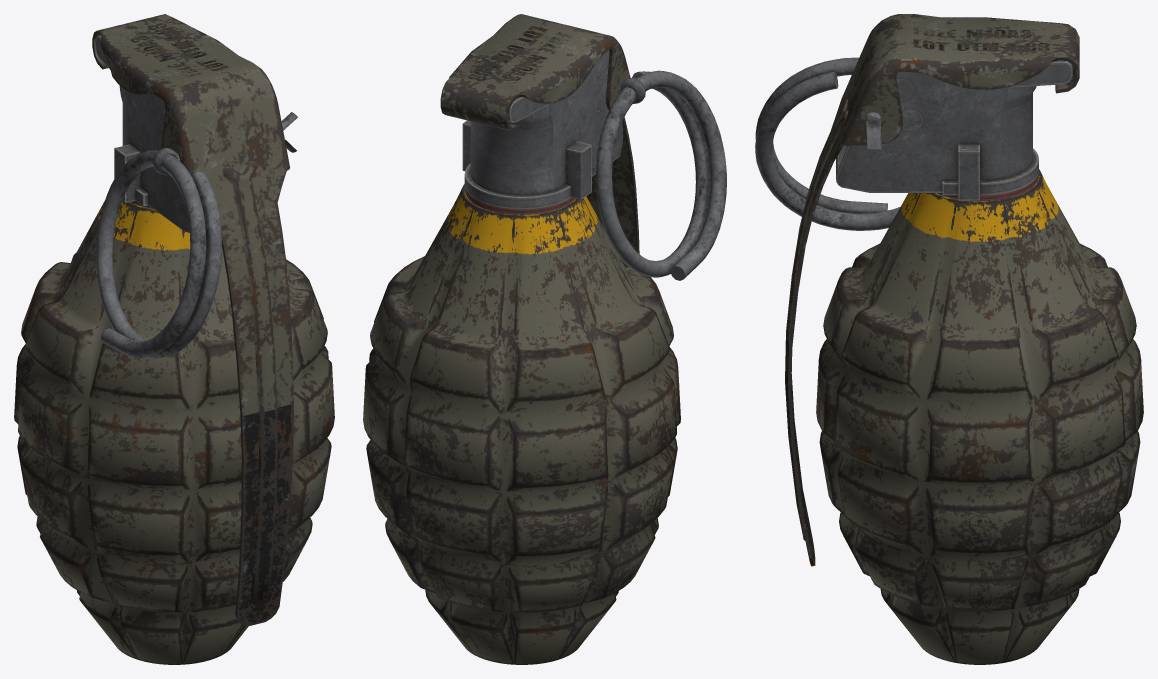
File: Frag.glb
3 renders of one model, left to right at view 1: azimuth 30°, elevation 25°; view 2: azimuth 150°, elevation 25°; view 3: azimuth 270°, elevation 25°, orthographic. The views are drawn at different scales.
Parts seen in each view (by area): view 1: e_low, a_low, c_low, d_low, b_low; view 2: e_low, a_low, d_low, c_low; view 3: e_low, a_low, d_low, c_low, b_low.
Boxes of the visible parts, box(x1,y1,x2,y2) form: e_low: box(14, 200, 334, 664); a_low: box(92, 14, 293, 626); c_low: box(96, 150, 221, 358); d_low: box(95, 35, 189, 232); b_low: box(153, 112, 297, 175); e_low: box(363, 184, 680, 664); a_low: box(440, 14, 639, 266); d_low: box(462, 50, 622, 209); c_low: box(596, 70, 726, 280); e_low: box(816, 169, 1143, 664); a_low: box(785, 14, 1079, 566); d_low: box(836, 60, 1072, 200); c_low: box(755, 57, 900, 230); b_low: box(866, 112, 881, 151).
Bounding box in the file's own units: 0.9859 × 2 × 1.17.
Materials: 1 (1 with a texture image).
